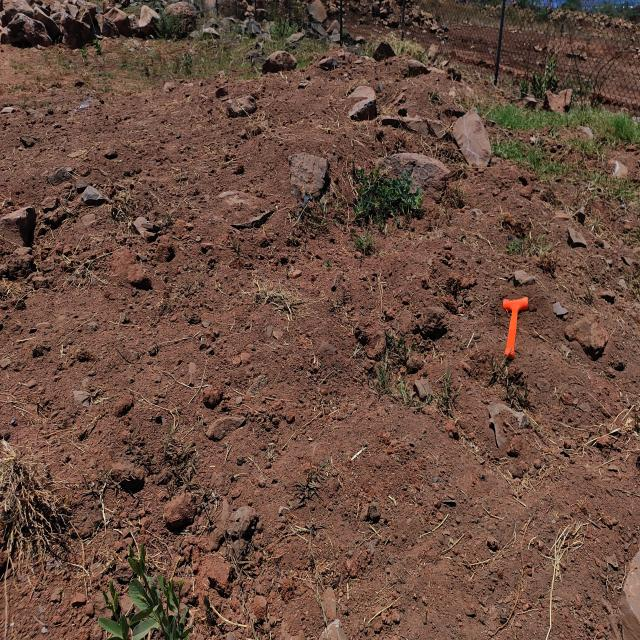Orange_hammer: (502, 295, 528, 359)
